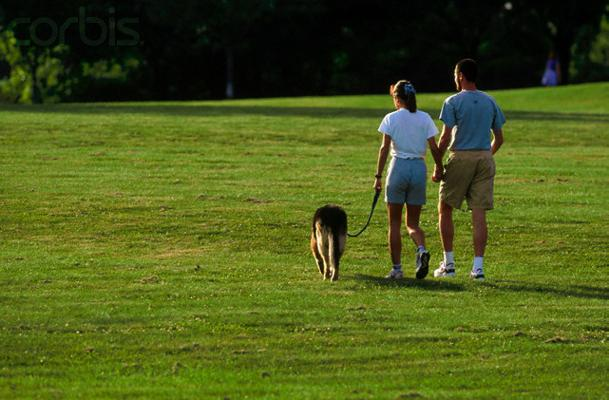person: (373, 80, 444, 282)
